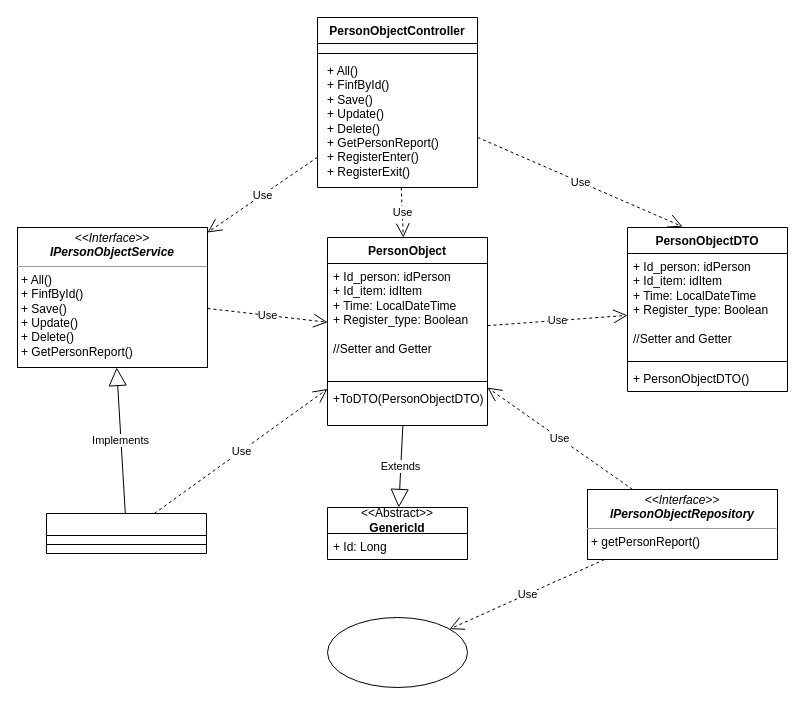
Image size: 805x705. Some labels were removed from this diagram. The centre of each missing label's shape, as x and y in pixels:
JpaRepository: point (397, 652)
PersonObjectService: point (126, 533)
